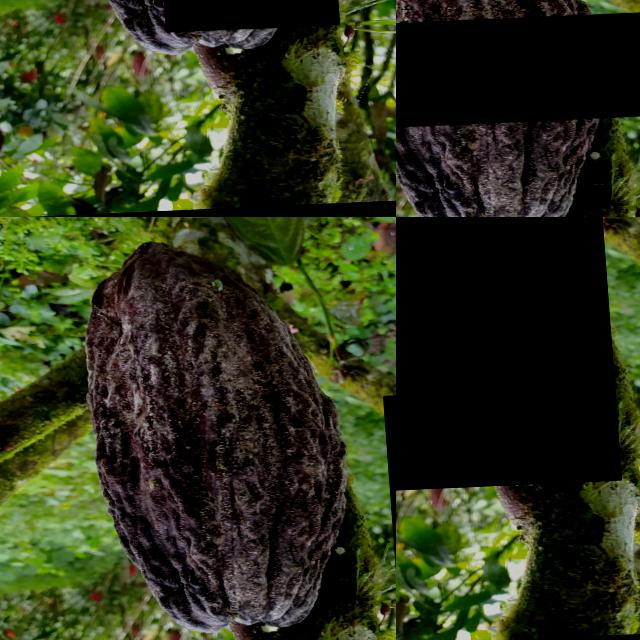Fitoftora: (396, 217, 614, 493)
Sana: (396, 16, 640, 130)
